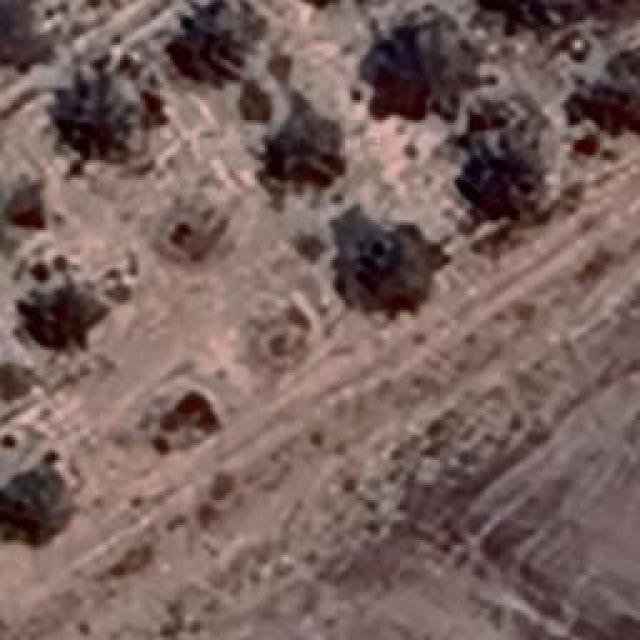PalmTree: (34, 61, 142, 154), (386, 18, 482, 100), (476, 122, 559, 205), (171, 2, 249, 80), (24, 260, 88, 345), (578, 54, 640, 140), (349, 237, 424, 305), (272, 114, 338, 186), (11, 478, 69, 542), (488, 0, 594, 31)
